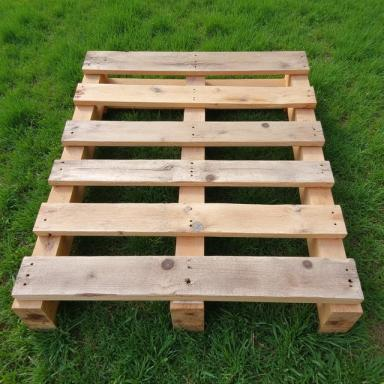pallet: (11, 51, 365, 334)
